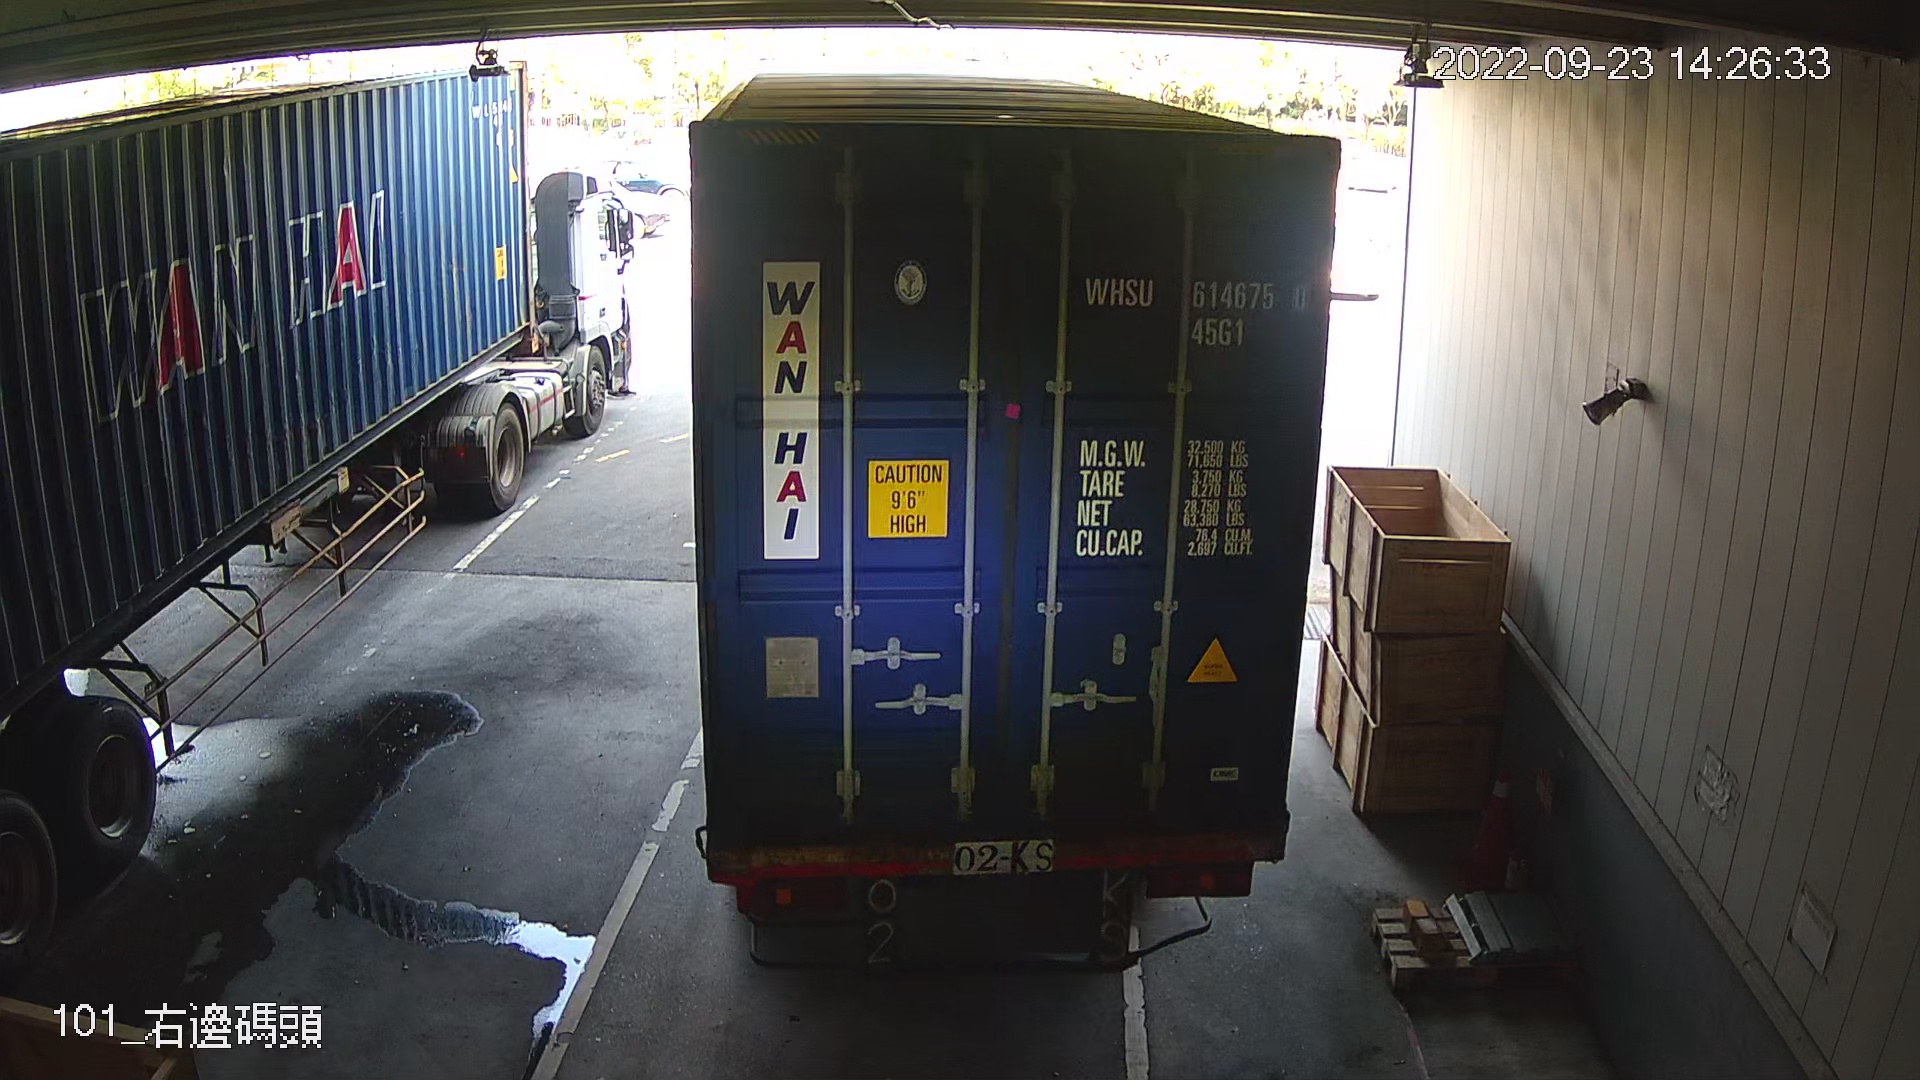container: (1075, 264, 1317, 355)
